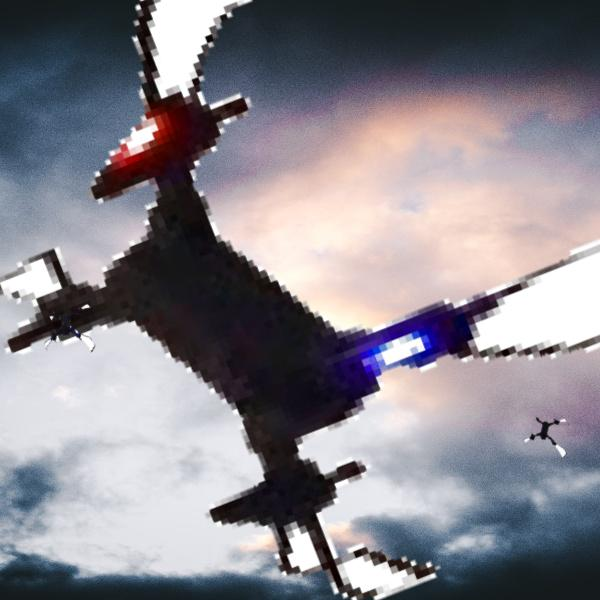drone: (40, 303, 105, 368), (522, 411, 577, 466)
